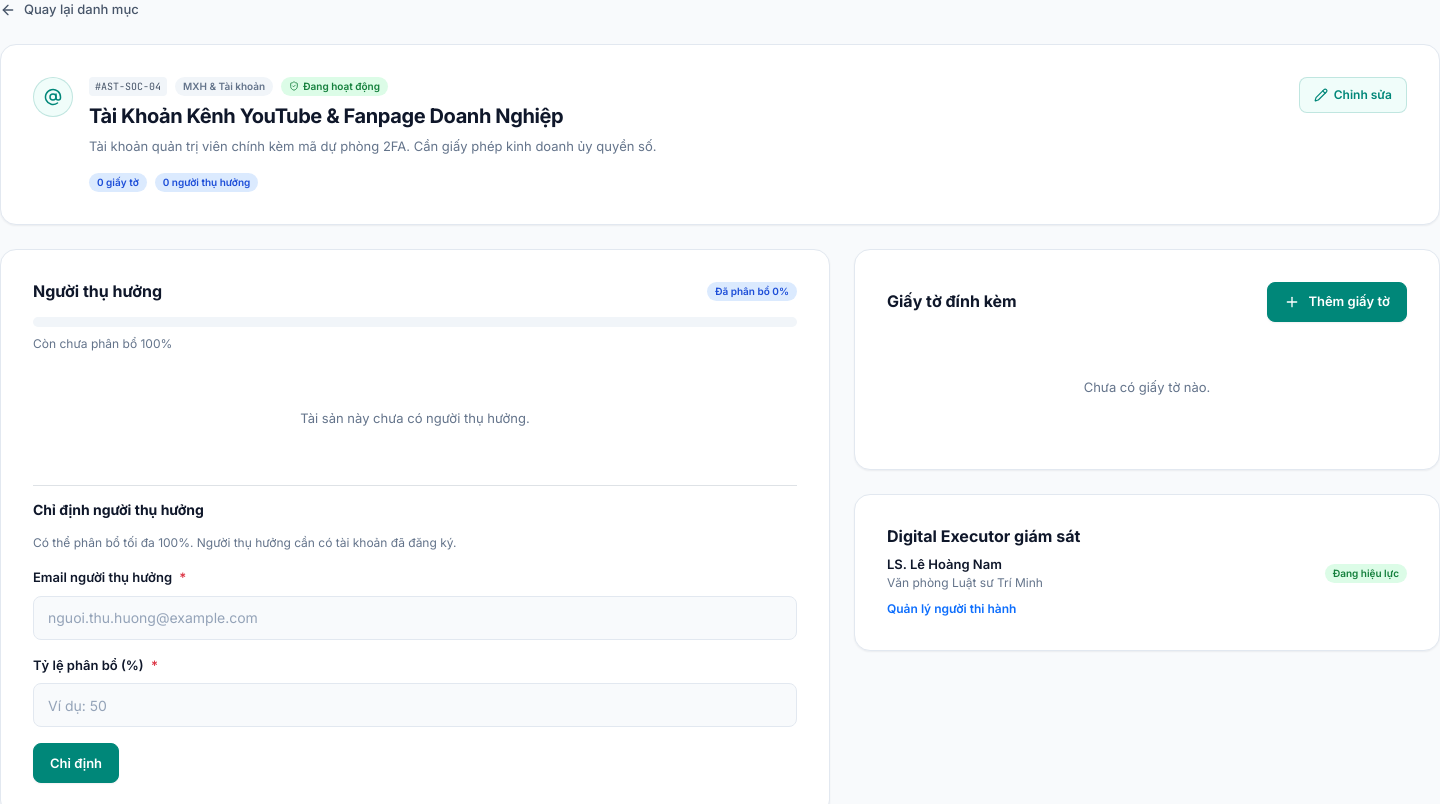
Test: AssetDetailPage assign beneficiary › assign_SameBeneficiaryTwice_ShowsConflictError
The width and height of the screenshot is (1440, 804).
Type "long.tran@example.com" into the field labelled "Email người thụ hưởng *". click: [415, 618]
box: [33,596,797,640]
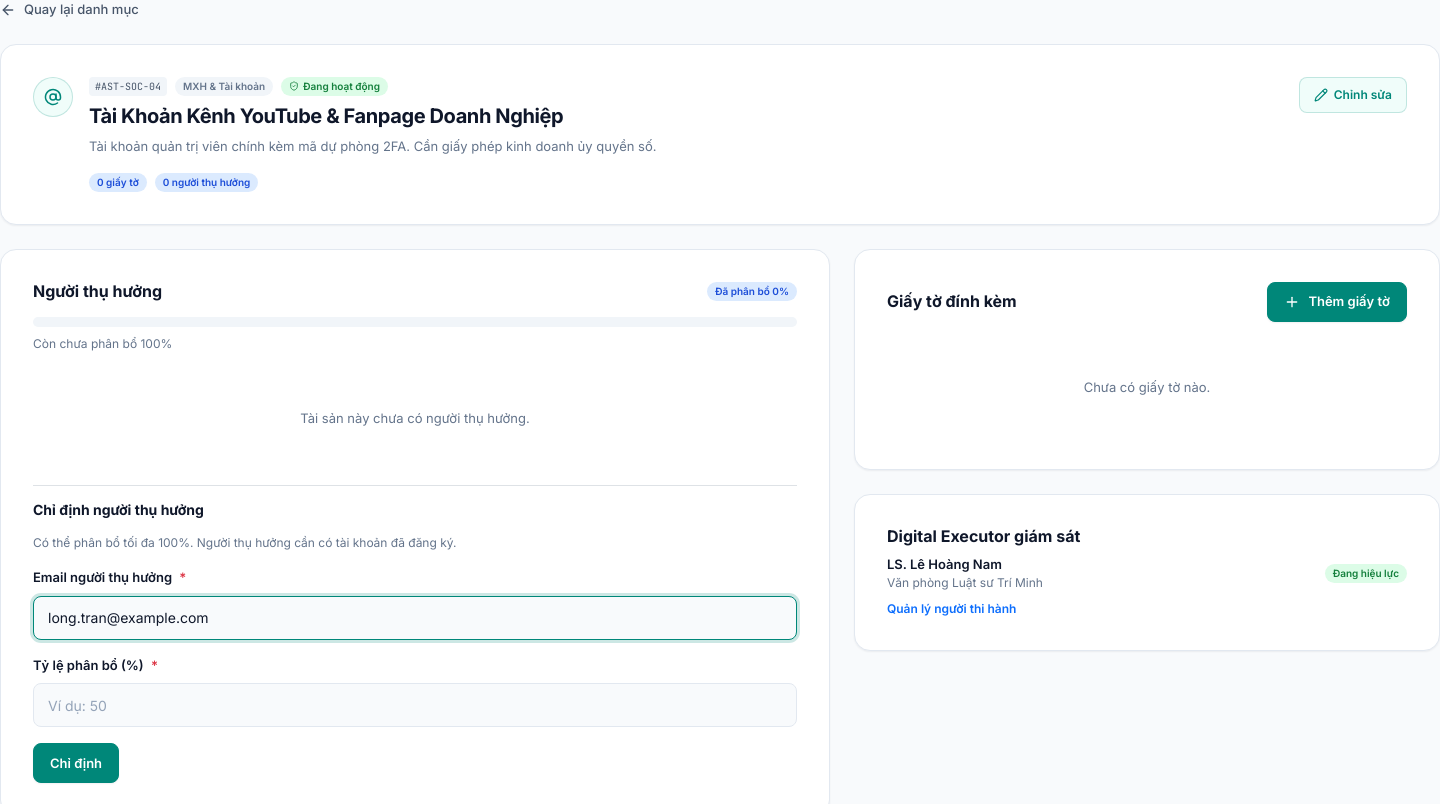
Type "30" into the field labelled "Tỷ lệ phân bổ (%) *". click: [415, 705]
box: [33,683,797,727]
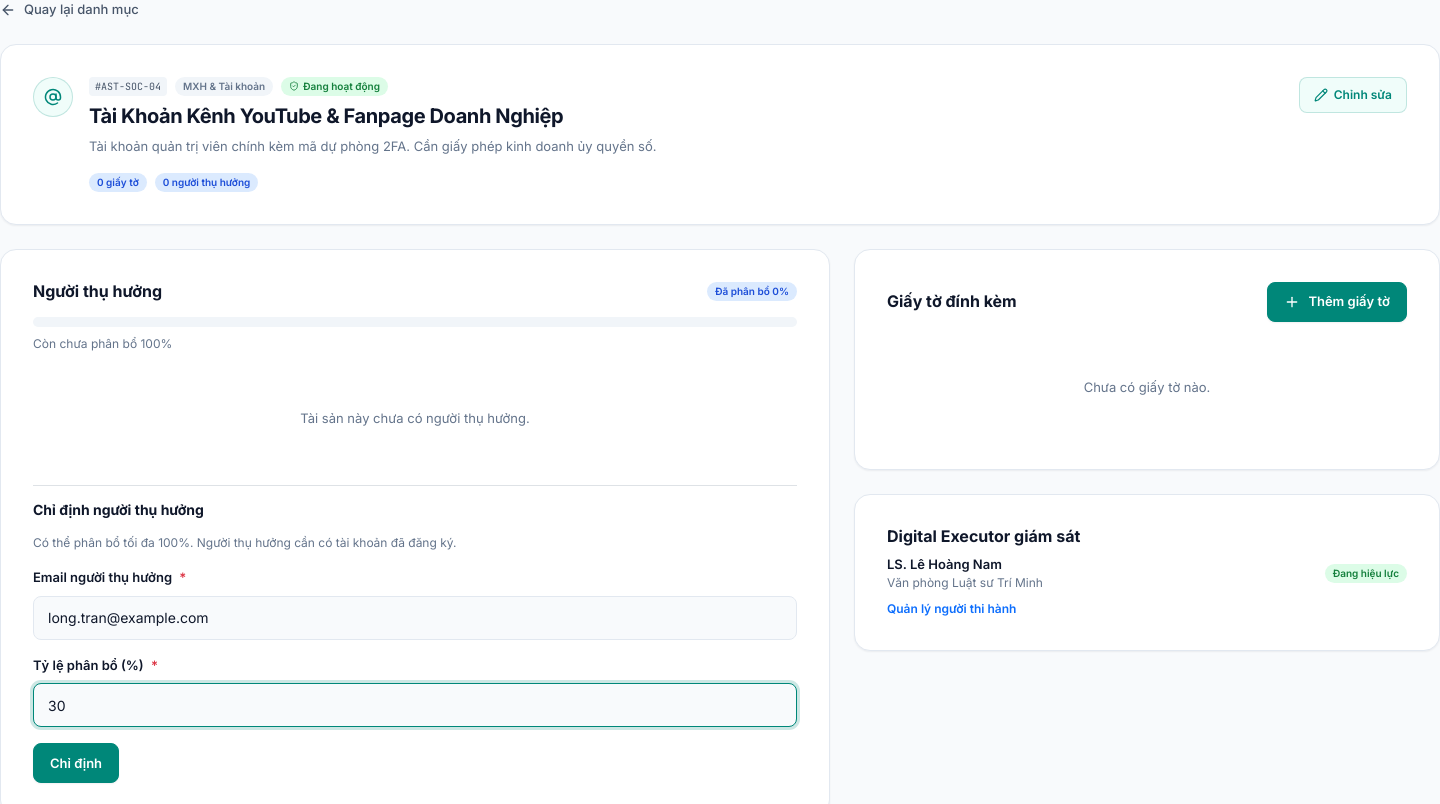
Click the button "Chỉ định". click: [76, 763]
box: [33,743,119,783]
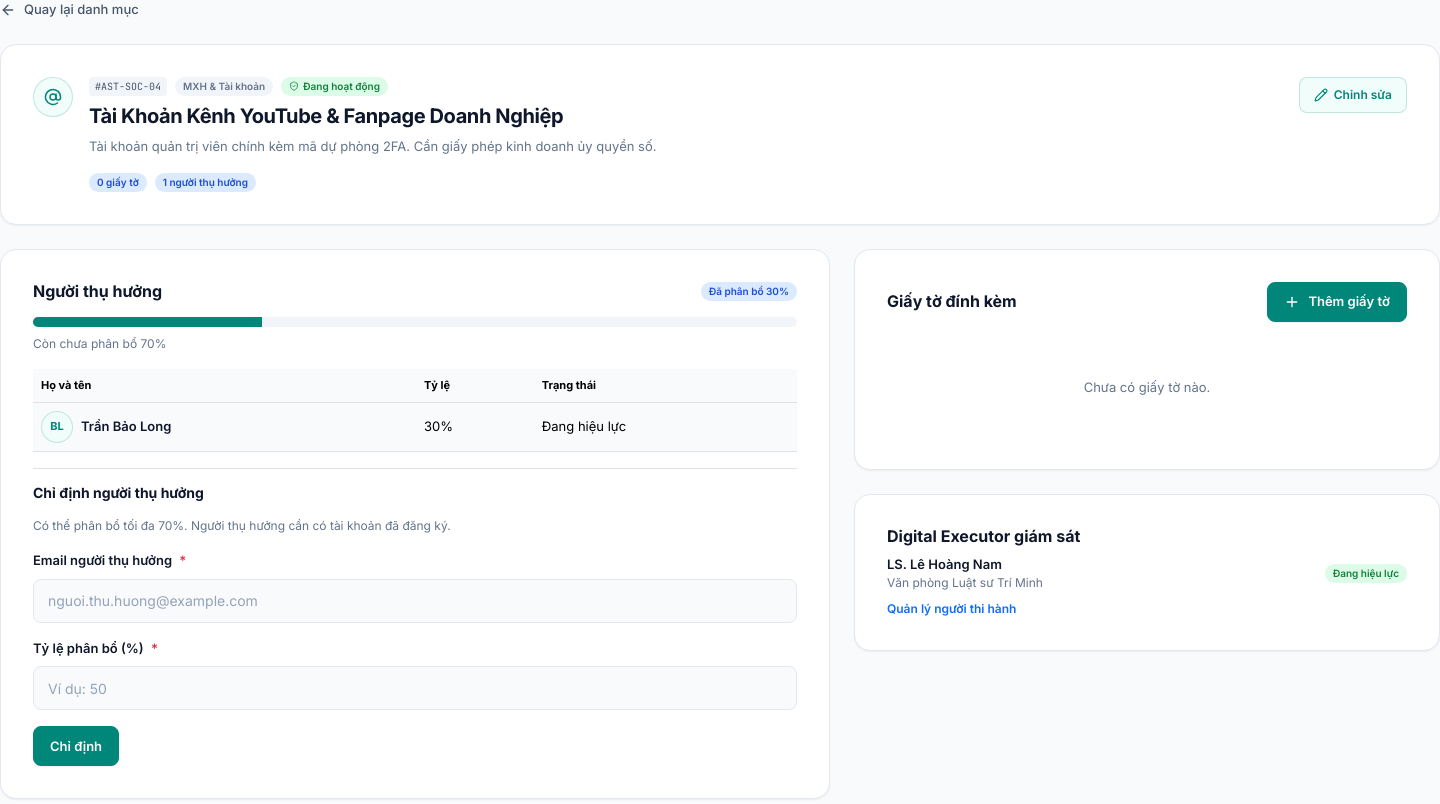
Check: the table named "Danh sách người thụ hưởng" is shown, box [33,369,797,452]
Type "long.tran@example.com" into the field labelled "Email người thụ hưởng *". click: [415, 601]
box: [33,579,797,623]
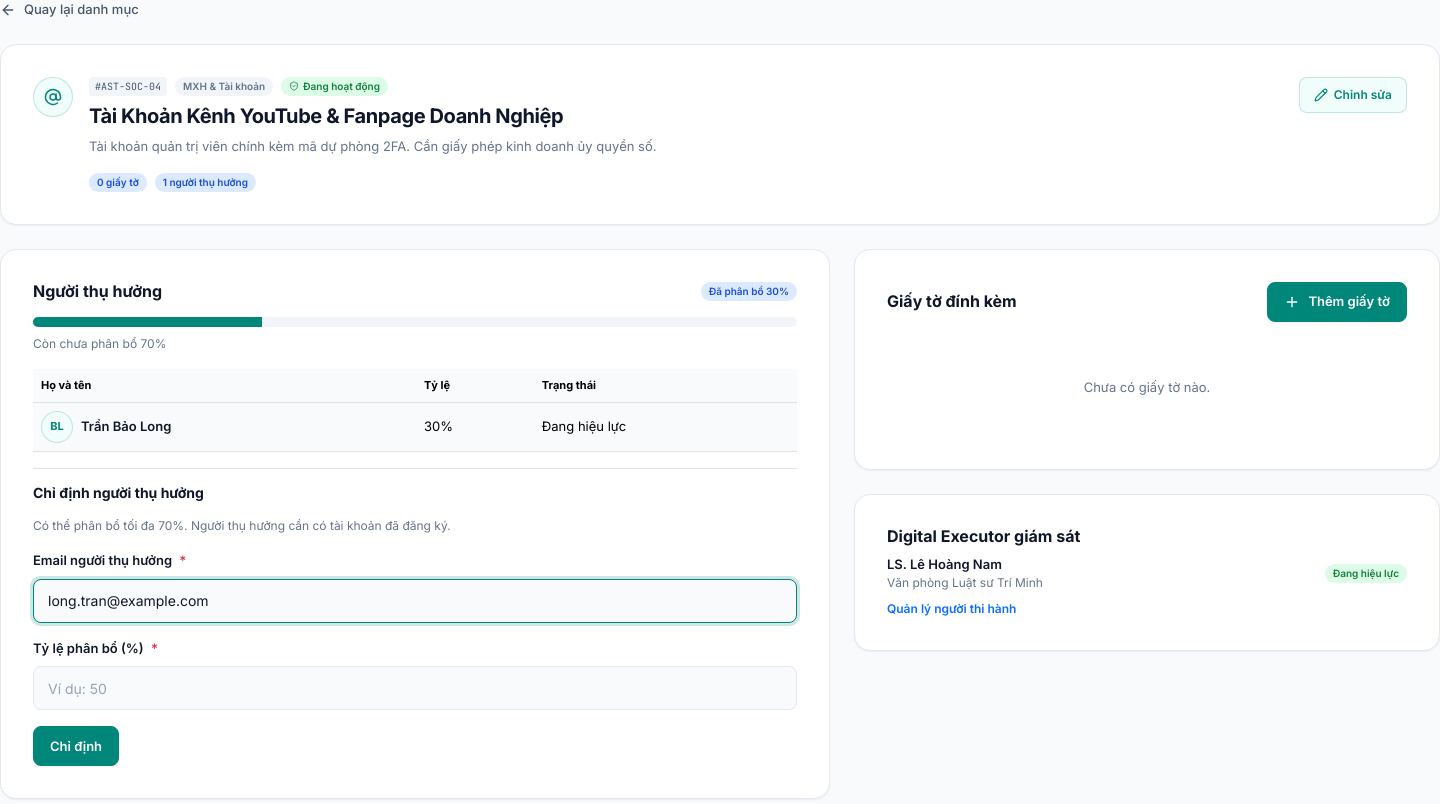
Type "10" into the field labelled "Tỷ lệ phân bổ (%) *". click: [415, 688]
box: [33,666,797,710]
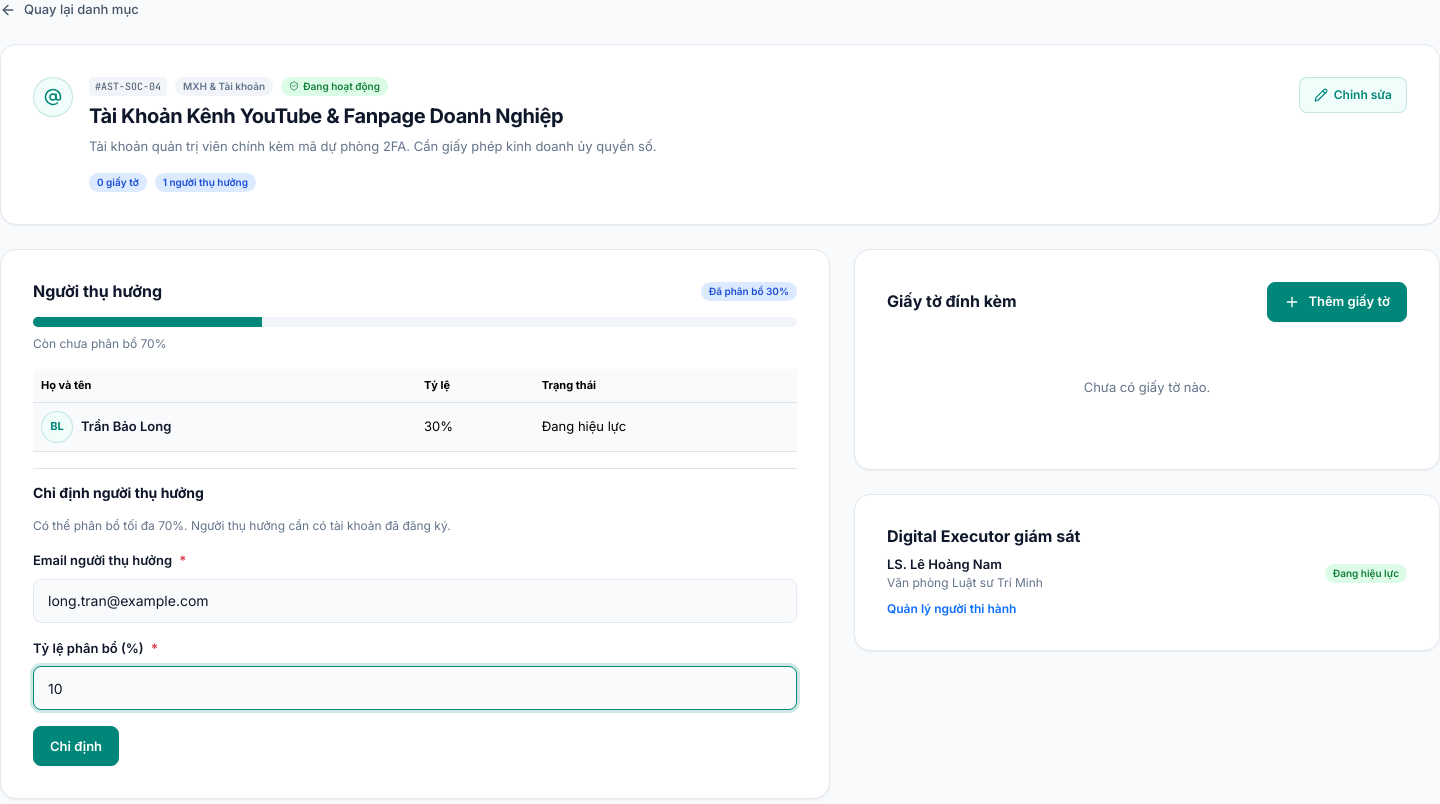
Click the button "Chỉ định". click: [76, 746]
box: [33,726,119,766]
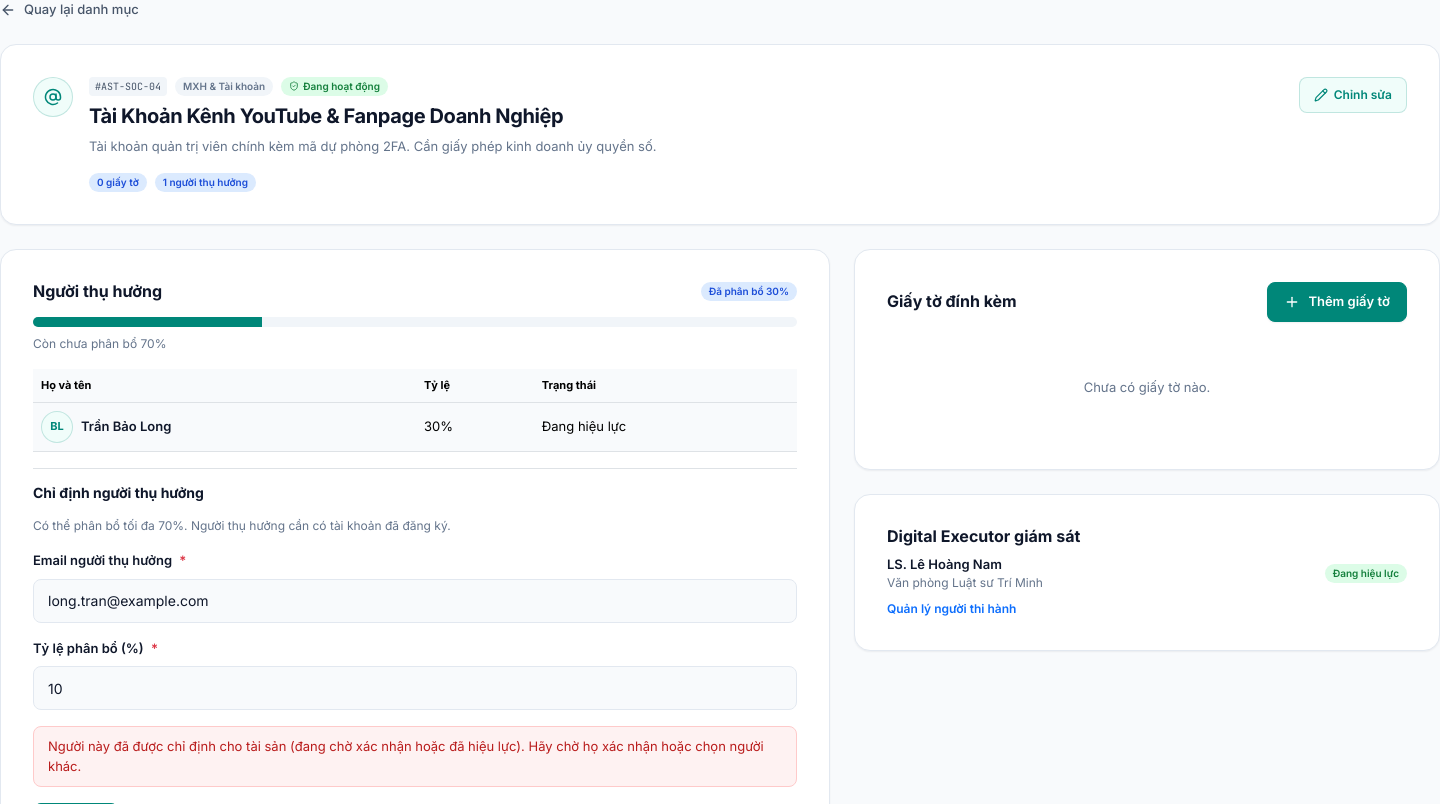
Check: the message shows "đã được chỉ định", box [48,738,764,774]
